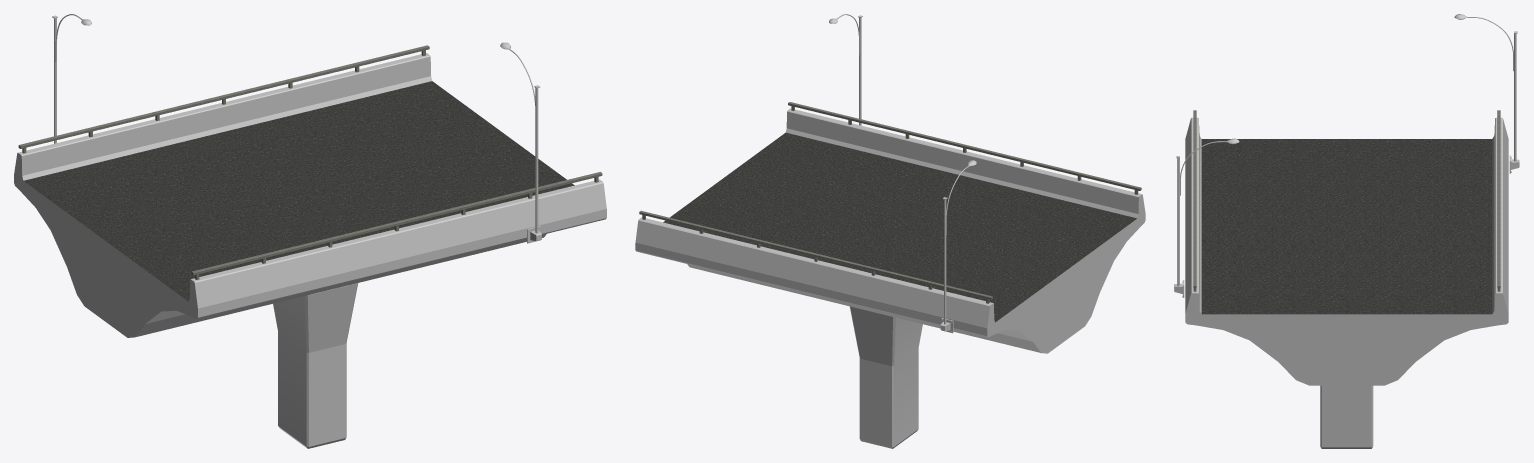
File: CIV_HW_offramp_straight_01.fbx
The picture shows the model from 3 angles, left to right: view 1: azimuth 30°, elevation 25°; view 2: azimuth 150°, elevation 25°; view 3: azimuth 270°, elevation 25°; orthographic projection. The views are drawn at different scales.
Visible parts, largest first — view 1: CIV_HW_offramp_straight_01; view 2: CIV_HW_offramp_straight_01; view 3: CIV_HW_offramp_straight_01.
Part boxes in pixels (x1=…): CIV_HW_offramp_straight_01: x1=14, y1=14, x2=606, y2=448; CIV_HW_offramp_straight_01: x1=635, y1=14, x2=1145, y2=448; CIV_HW_offramp_straight_01: x1=1174, y1=14, x2=1519, y2=448.
Bounding box in the file's own units: 1536 × 1458 × 1278.
